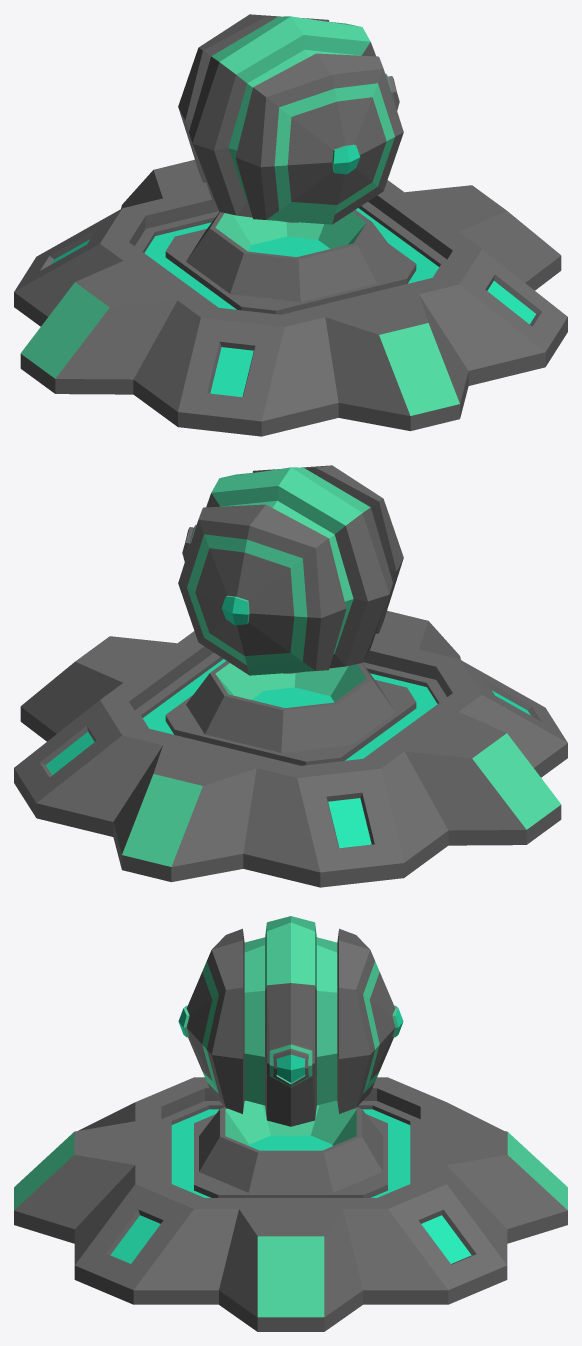
Rendered from Turret_empty.fbx.
The picture shows the model from 3 angles, top to bottom: view 1: azimuth 30°, elevation 25°; view 2: azimuth 150°, elevation 25°; view 3: azimuth 270°, elevation 25°; orthographic projection. The views are drawn at different scales.
Parts seen in each view (by area): view 1: Cube.082, Cube.084, Cube.083; view 2: Cube.082, Cube.084, Cube.083; view 3: Cube.082, Cube.084, Cube.083.
Boxes of the visible parts, bbox=[...] form: Cube.082: bbox=[14, 159, 567, 436]; Cube.084: bbox=[178, 14, 403, 224]; Cube.083: bbox=[186, 210, 395, 301]; Cube.082: bbox=[14, 610, 567, 887]; Cube.084: bbox=[178, 465, 403, 675]; Cube.083: bbox=[186, 661, 395, 752]; Cube.082: bbox=[14, 1077, 567, 1331]; Cube.084: bbox=[178, 916, 403, 1126]; Cube.083: bbox=[199, 1100, 382, 1192].
Size of the model in its own units: 4.43 by 2.54 by 4.37.
